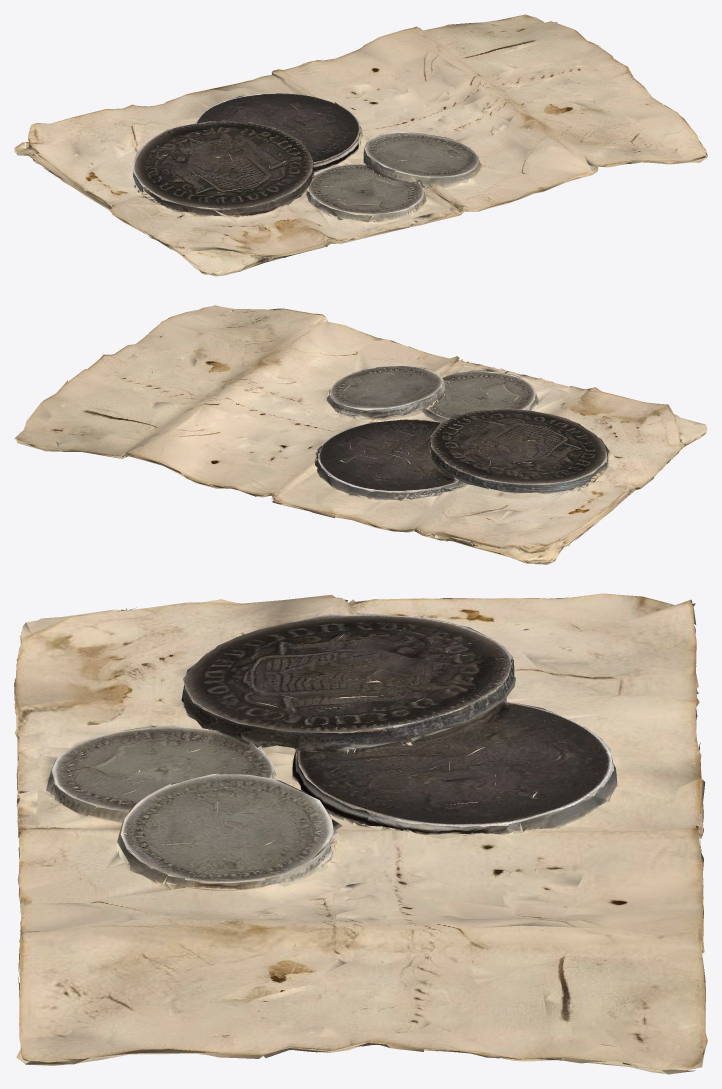
The model's file is coin-paper-set.glb.
3 views of the same model, one above another, from view 1: azimuth 30°, elevation 25°; view 2: azimuth 150°, elevation 25°; view 3: azimuth 270°, elevation 25° (orthographic). The views are drawn at different scales.
Visible parts, largest first — view 1: coin-paper-set_mesh; view 2: coin-paper-set_mesh; view 3: coin-paper-set_mesh.
Part boxes in pixels (x1,y1,x2,y2): coin-paper-set_mesh: (14,14,707,276); coin-paper-set_mesh: (14,305,707,564); coin-paper-set_mesh: (14,593,707,1074).
Size of the model in its own units: 1.9 by 0.1079 by 1.18.
1 material, 1 textured.
